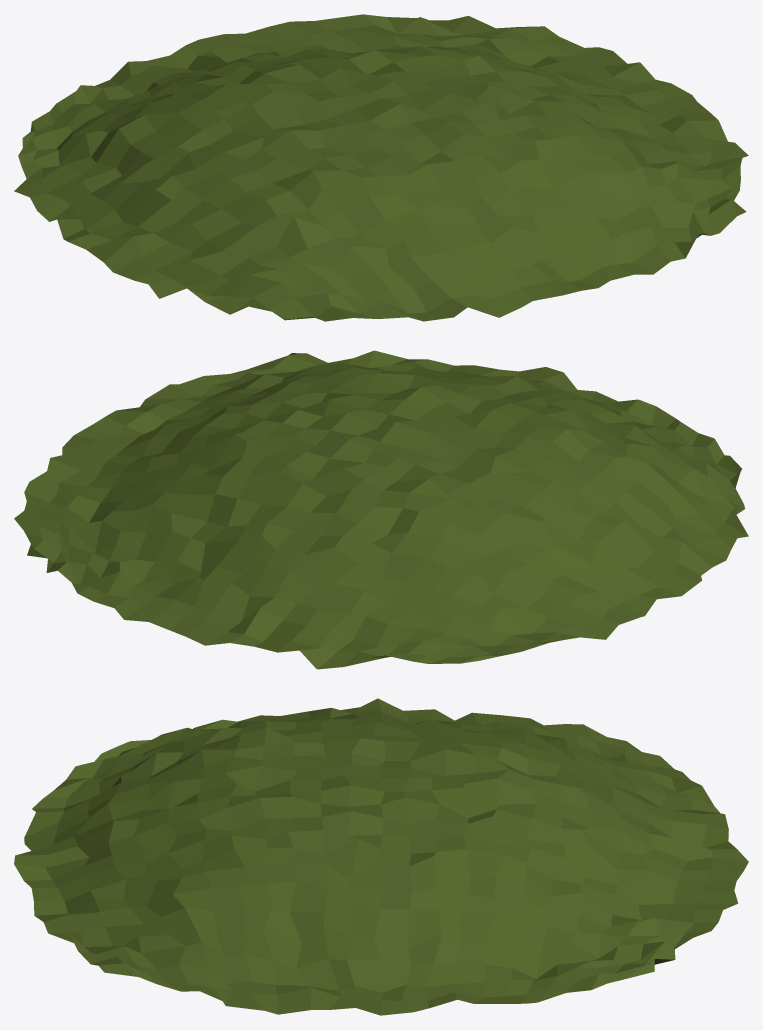
Rendered from CirclePlain.fbx.
The picture shows the model from 3 angles, top to bottom: view 1: azimuth 30°, elevation 25°; view 2: azimuth 150°, elevation 25°; view 3: azimuth 270°, elevation 25°; orthographic projection.
Visible parts, largest first — view 1: CirclePlain; view 2: CirclePlain; view 3: CirclePlain.
Boxes of the visible parts, x1,y1,x2,y2 form: CirclePlain: [14, 14, 748, 321]; CirclePlain: [14, 350, 748, 669]; CirclePlain: [14, 698, 748, 1015].
Size of the model in its own units: 18.5 by 2.43 by 18.52.
